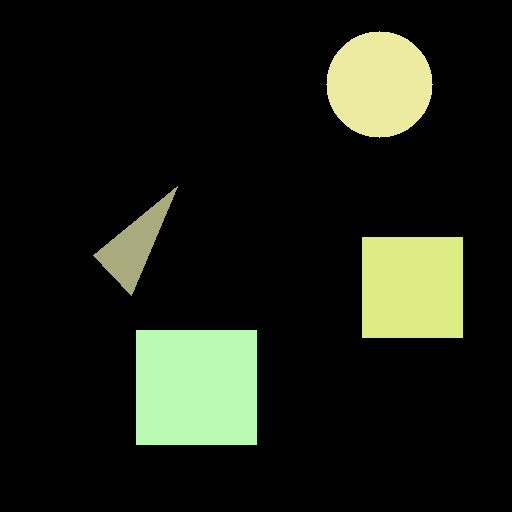circle: (326, 31, 432, 137)
square: (136, 330, 256, 444), (362, 237, 462, 337)
triangle: (93, 186, 177, 295)
